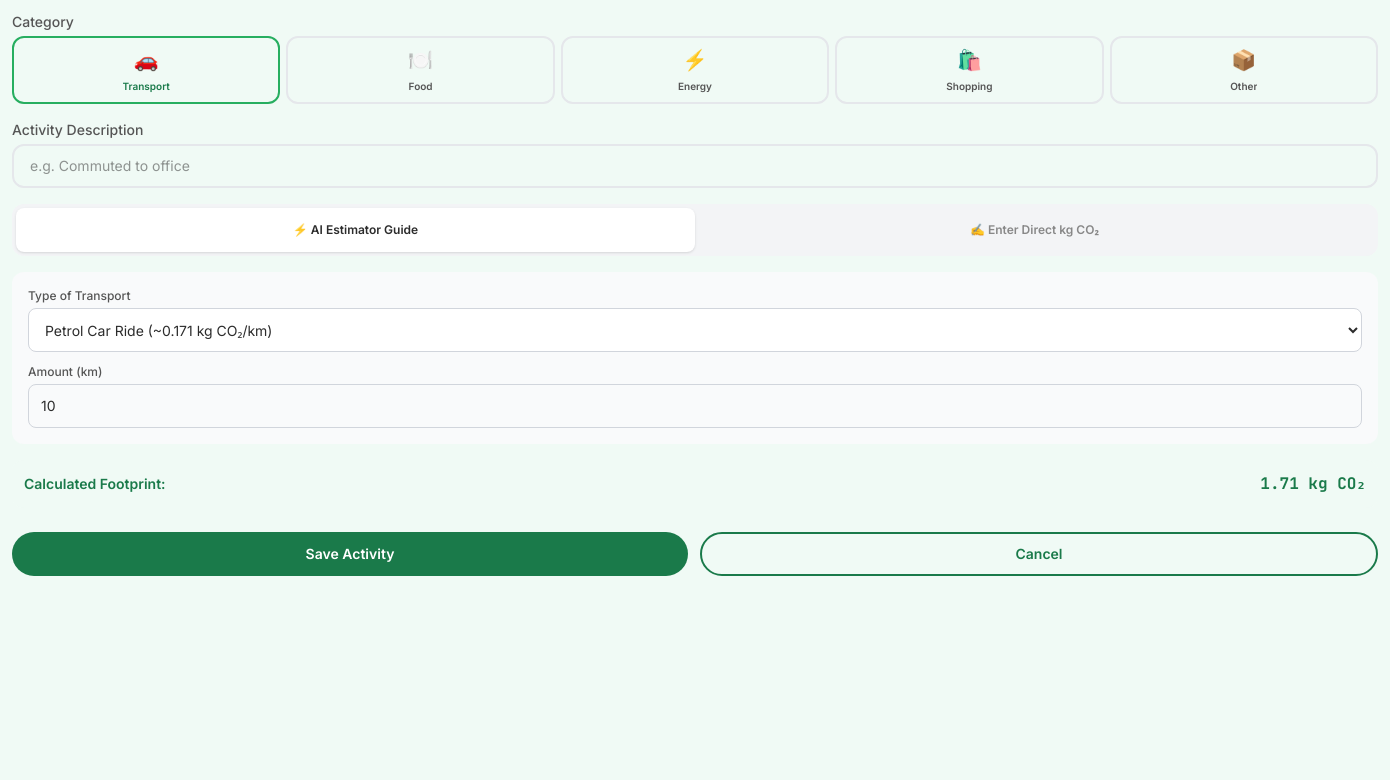
AddEntryForm Component Tests › calculates energy AC emission correctly
Click the button with aria-label "energy category" at (695, 70), box [561,36,829,104]
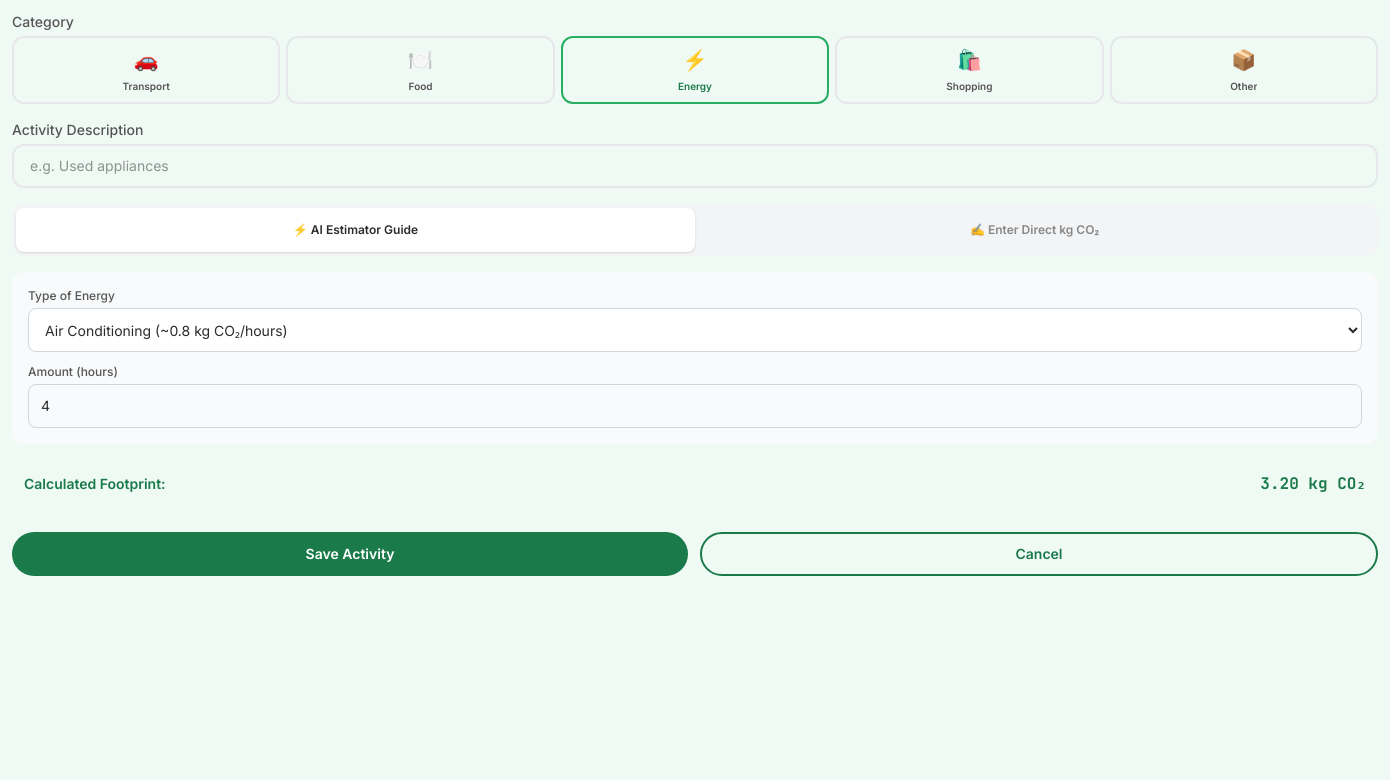
Type "Ran AC" into the field labelled "Activity Description" at (695, 166), box [12,144,1378,188]
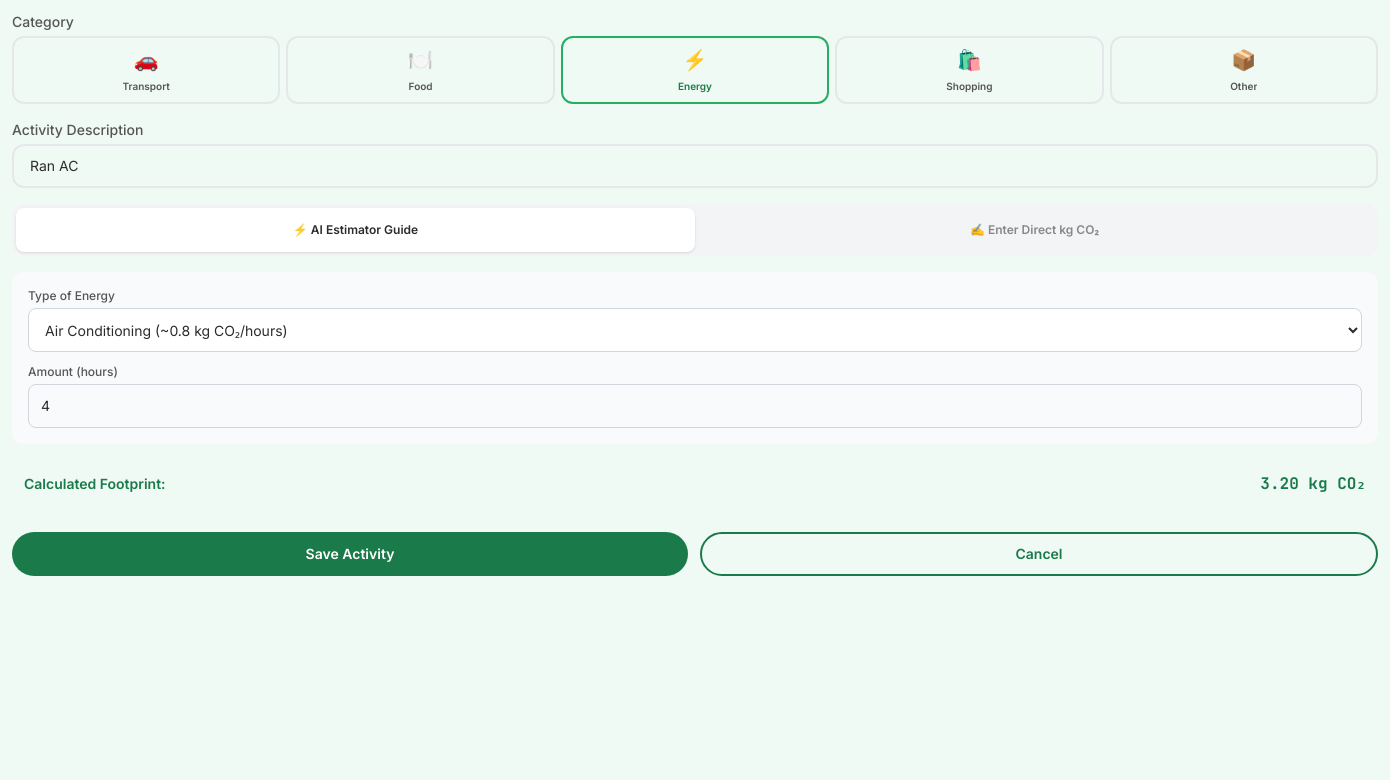
Select "Air Conditioning (~0.8 kg CO₂/hours)" in the dropdown labelled "Type of Energy" at (695, 330), box [28,308,1362,352]
Replace the text in the number field labelled "Amount (hours)" with "5" at (695, 406), box [28,384,1362,428]
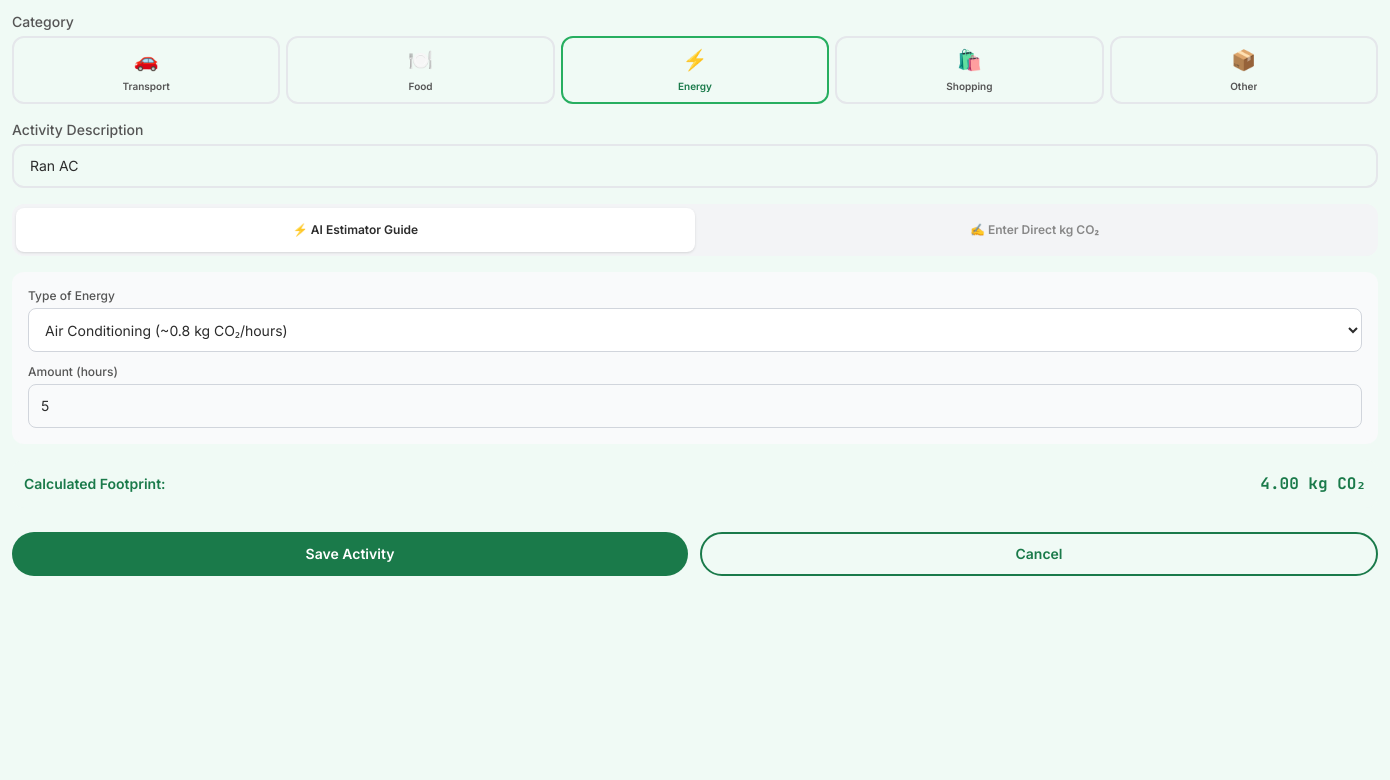
Result: the text "4.00 kg CO₂" is shown at [1260,472,1366,496]
